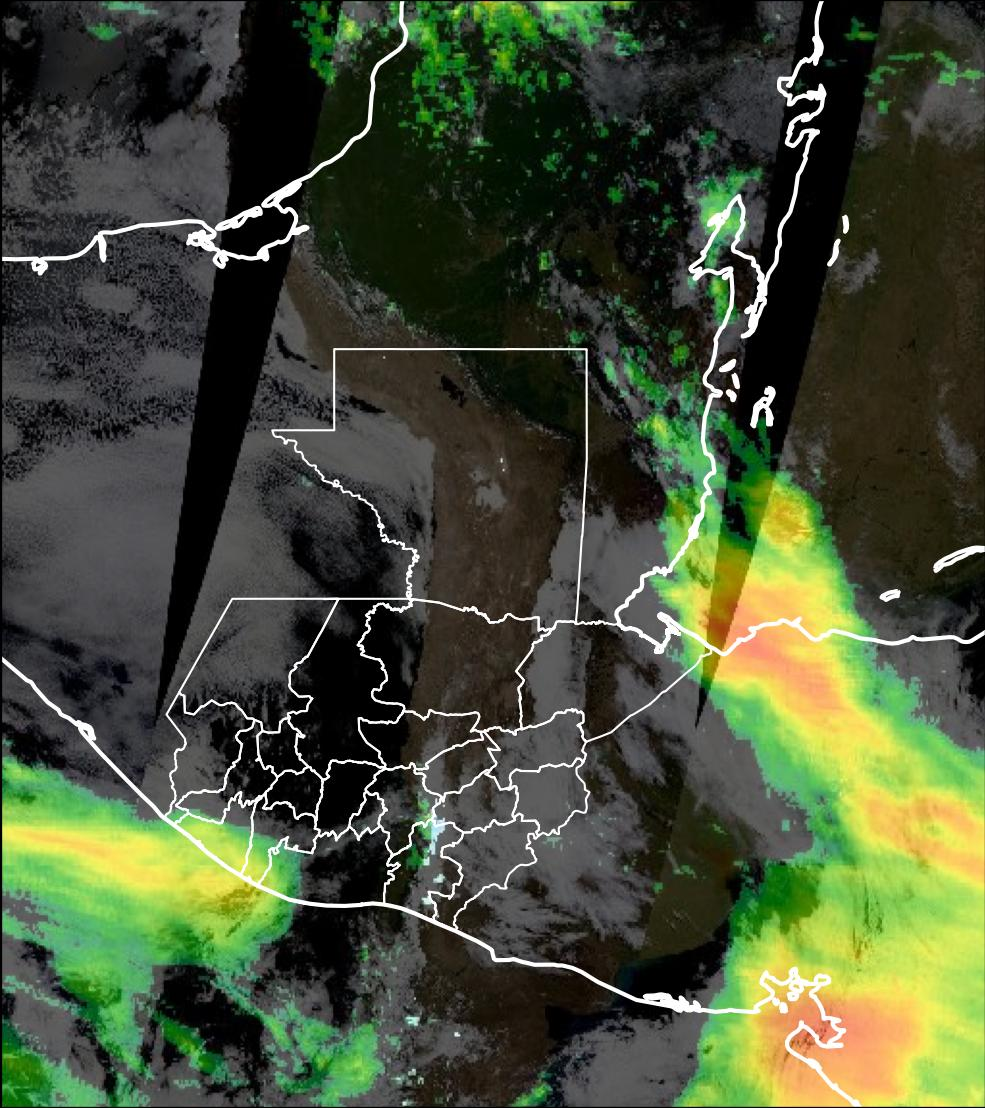precipitacion: (677, 569, 891, 755), (736, 950, 967, 1108)
